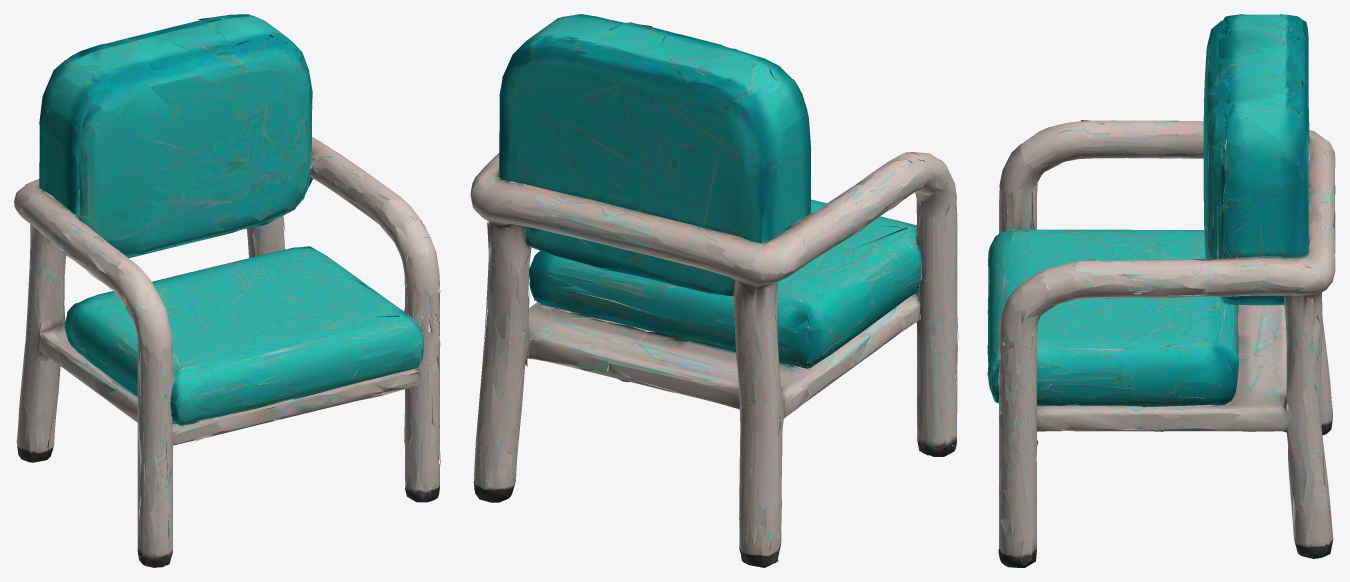
The model's file is visitor-chair.glb.
3 renders of one model, left to right at view 1: azimuth 30°, elevation 25°; view 2: azimuth 150°, elevation 25°; view 3: azimuth 270°, elevation 25°, orthographic. The views are drawn at different scales.
Visible parts, largest first — view 1: Mesh_0; view 2: Mesh_0; view 3: Mesh_0.
Part boxes in pixels (box(x1,y1,x2,y2)): Mesh_0: box(14, 14, 441, 567); Mesh_0: box(470, 14, 958, 567); Mesh_0: box(987, 14, 1335, 567).
Bounding box in the file's own units: 1.46 × 1.9 × 1.37.
Materials: 1 (1 with a texture image).
